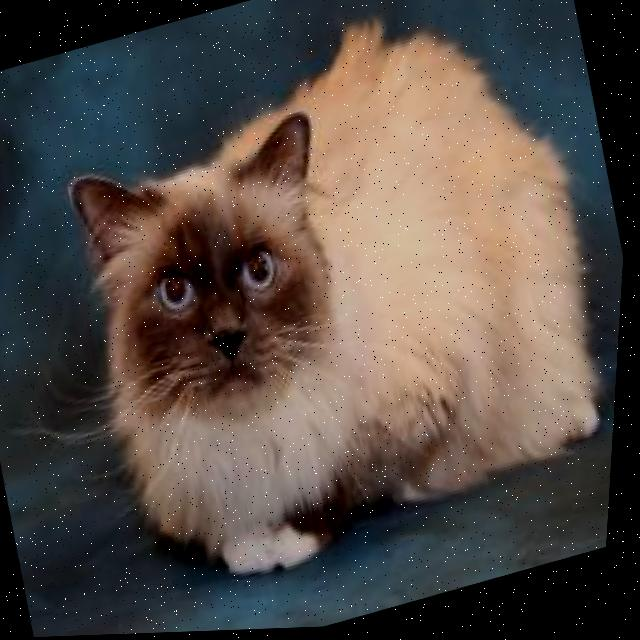Birman: (20, 0, 640, 622)
